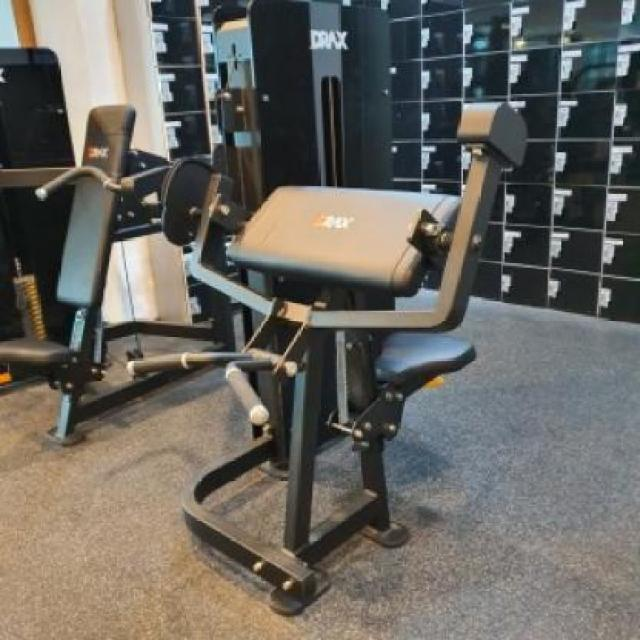arm curl machine: (128, 157, 480, 615)
